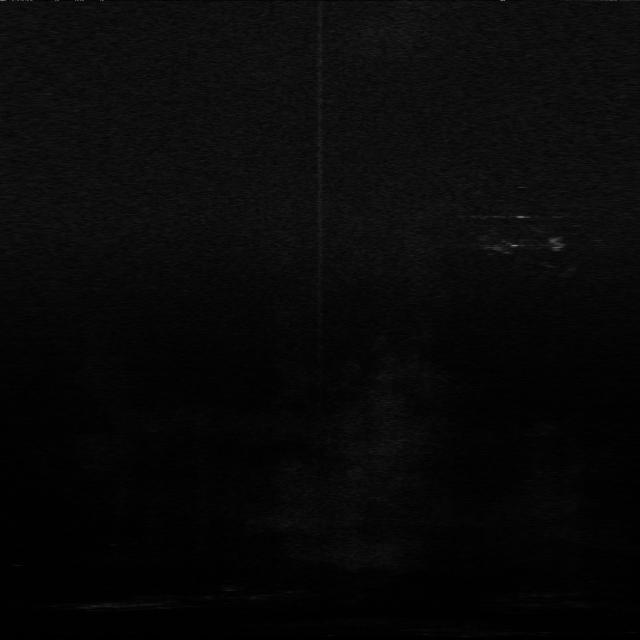rov: (546, 234, 576, 252)
